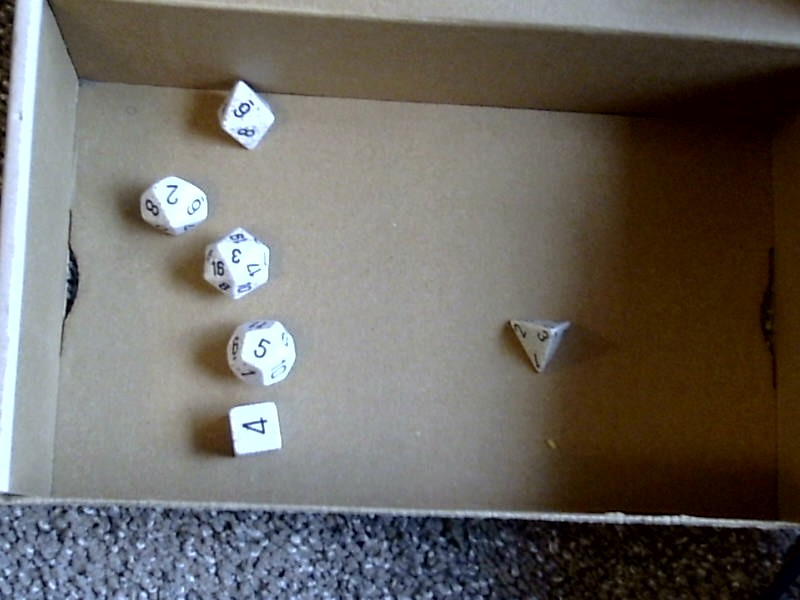d10 2: (128, 170, 213, 237)
d12 5: (222, 314, 306, 393)
d20 3: (198, 225, 280, 301)
d4 3: (505, 309, 576, 384)
d6 4: (220, 397, 288, 464)
d8 6: (211, 75, 279, 158)
